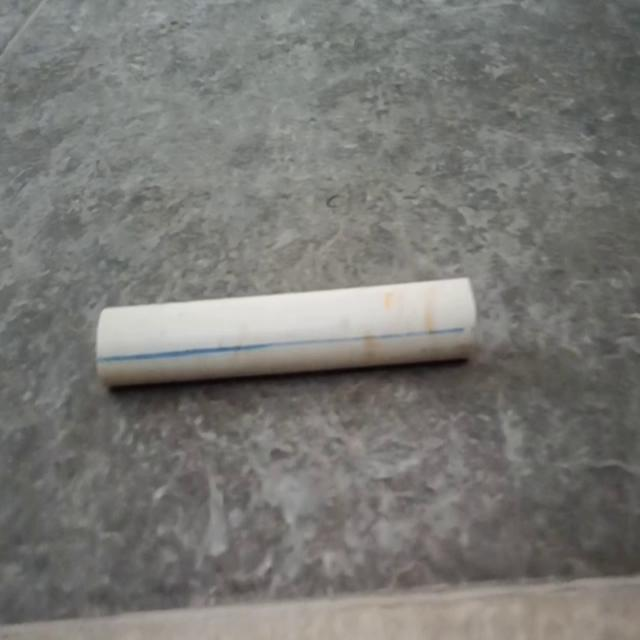Cube: (94, 274, 478, 389)
